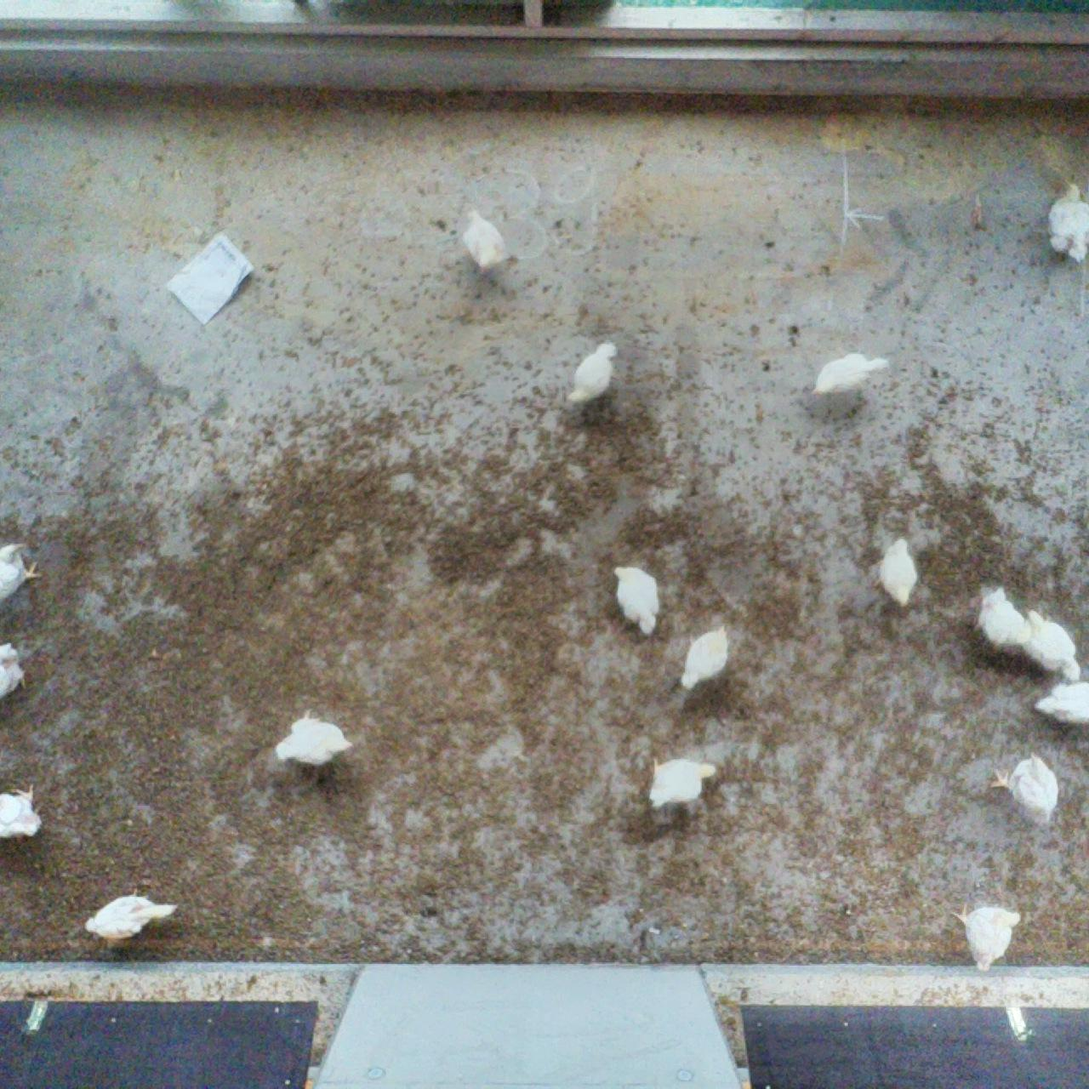chicken: (802, 344, 903, 403), (452, 200, 519, 280), (674, 619, 741, 696), (560, 336, 625, 415), (78, 895, 182, 943), (649, 747, 721, 814), (605, 554, 662, 636), (872, 534, 926, 619), (1011, 753, 1065, 838), (1031, 608, 1087, 683), (1045, 171, 1089, 265), (273, 717, 346, 773), (963, 903, 1025, 968), (974, 579, 1021, 651), (1028, 679, 1089, 730), (0, 781, 46, 843), (0, 536, 35, 614), (0, 643, 32, 713)
